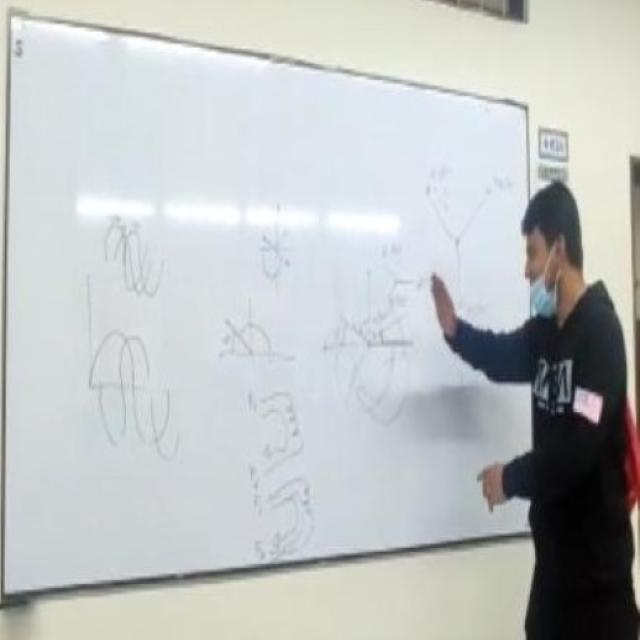Instructor: (455, 174, 629, 616)
White-board: (3, 12, 542, 605)
